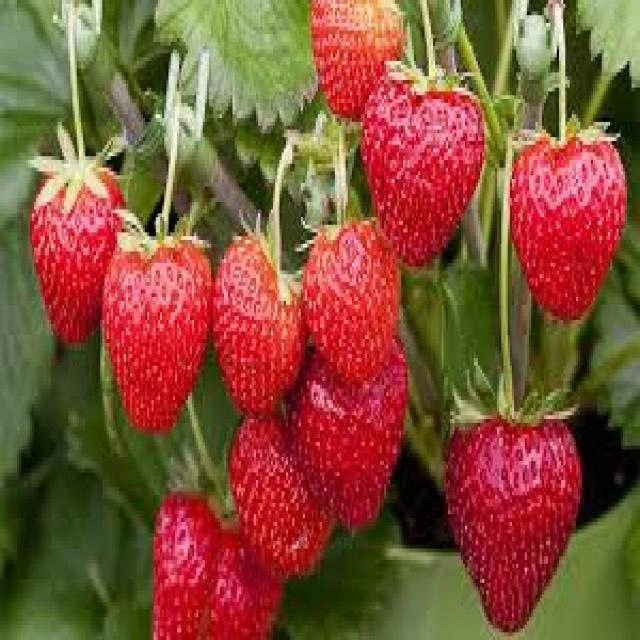Fruta sana: (445, 407, 585, 632), (366, 57, 486, 255), (290, 338, 406, 536), (510, 133, 630, 322), (106, 227, 212, 433), (226, 406, 330, 582), (210, 232, 306, 412), (302, 204, 403, 369), (33, 160, 123, 340), (146, 473, 222, 634), (306, 1, 402, 106)
